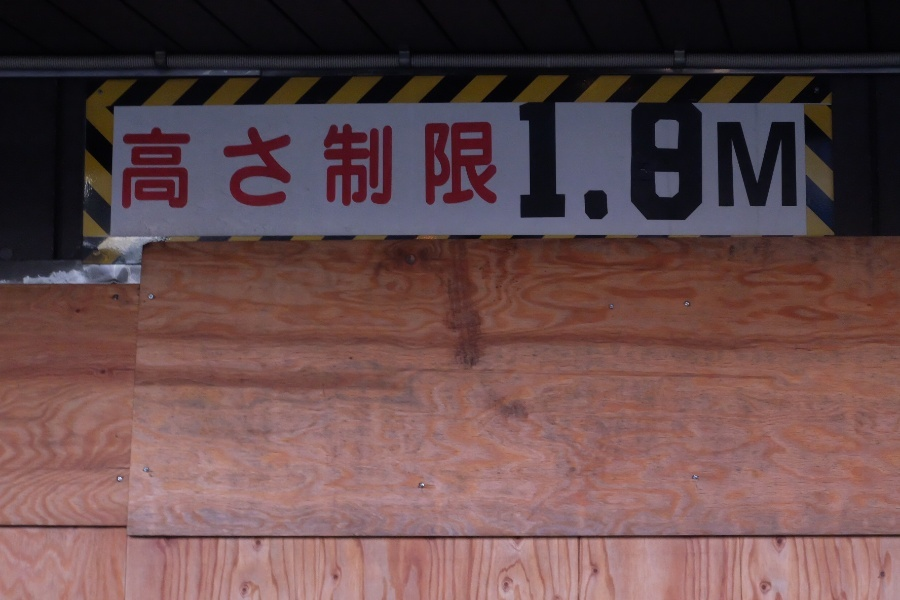text: (529, 101, 544, 222), (545, 101, 560, 222), (561, 101, 576, 222), (577, 101, 592, 222), (593, 101, 608, 222), (609, 101, 624, 222), (625, 101, 640, 222), (641, 101, 656, 222), (657, 101, 672, 222), (673, 101, 688, 222), (689, 101, 704, 222), (705, 101, 720, 222), (721, 101, 736, 222), (737, 101, 752, 222), (753, 101, 768, 222), (769, 101, 784, 222), (785, 101, 798, 222), (129, 121, 144, 211), (145, 121, 160, 211), (161, 121, 176, 211), (177, 121, 192, 211), (193, 121, 208, 211), (209, 121, 224, 211), (225, 121, 240, 211), (241, 121, 256, 211), (257, 121, 272, 211), (273, 121, 288, 211), (289, 121, 304, 211), (305, 121, 320, 211), (321, 121, 336, 211), (337, 121, 352, 211), (353, 121, 368, 211), (369, 121, 384, 211), (385, 121, 400, 211), (401, 121, 416, 211), (417, 121, 432, 211), (433, 121, 448, 211), (449, 121, 464, 211), (465, 121, 480, 211), (481, 121, 496, 211), (518, 101, 528, 222), (123, 121, 128, 211), (497, 121, 498, 211)
